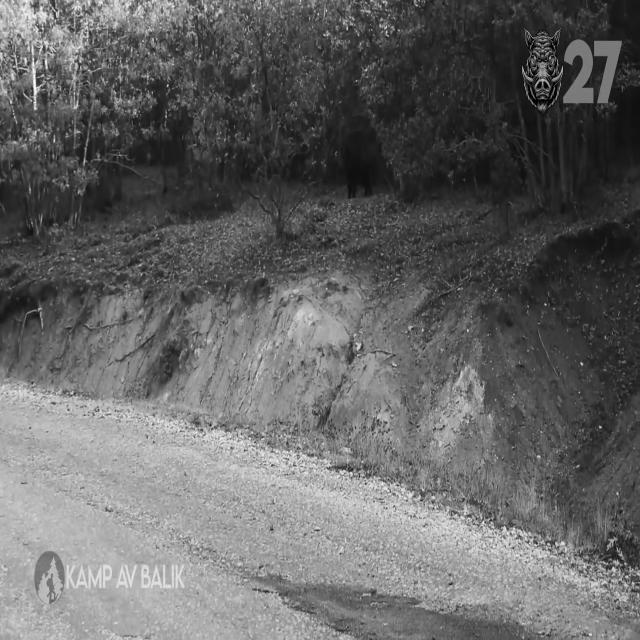boar: (523, 27, 564, 111), (340, 114, 380, 197)
